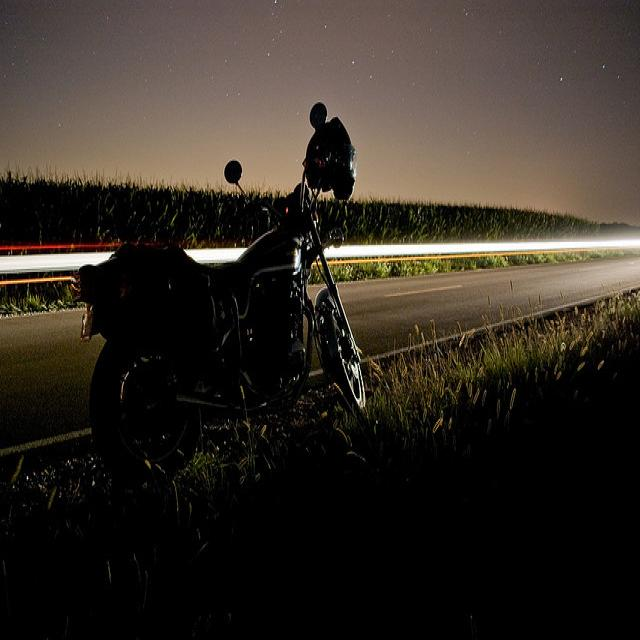Motorbike: (47, 181, 412, 508)
